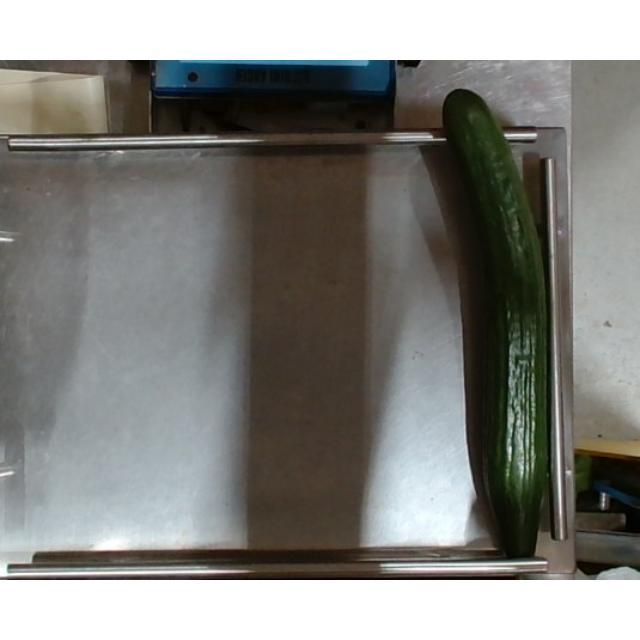cucumber: (442, 90, 548, 562)
